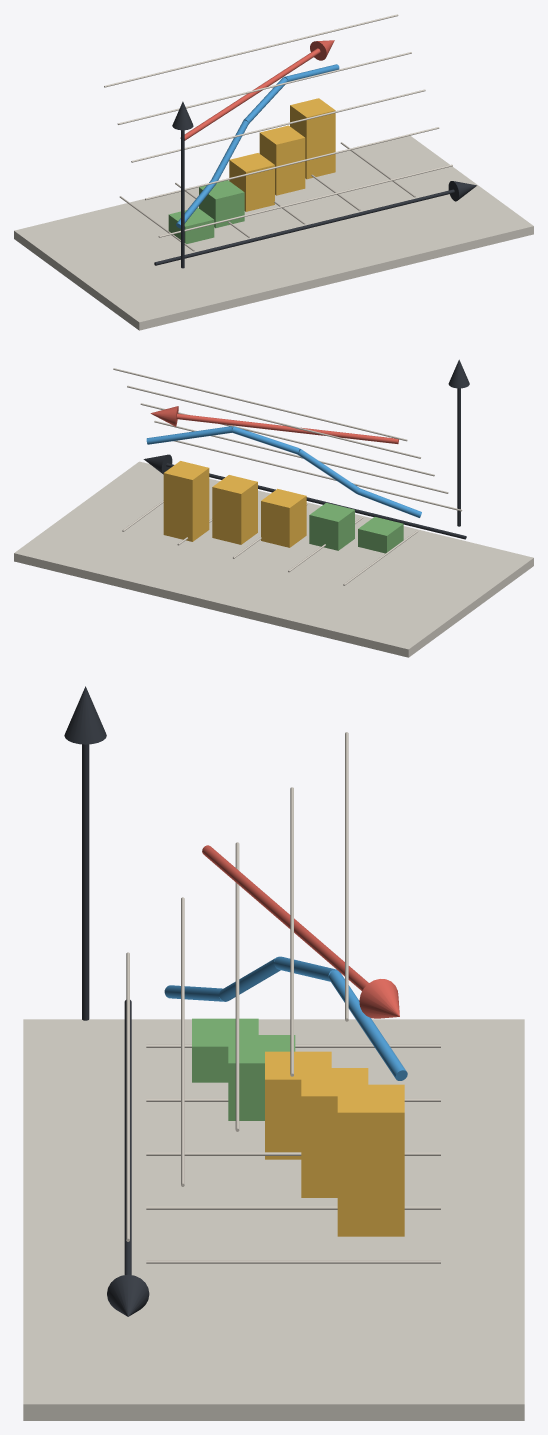
Rendered from math-advanced-math-calc-accumulation.glb.
3 views of the same model, one above another, from view 1: azimuth 30°, elevation 25°; view 2: azimuth 150°, elevation 25°; view 3: azimuth 270°, elevation 25° (orthographic). The views are drawn at different scales.
Parts seen in each view (by area): view 1: advanced-math-base, accumulating-sum-slab-5, accumulating-sum-slab-4, accumulating-sum-slab-3, accumulating-sum-slab-2, math-calc-accumulation-x-axis-shaft, accumulating-sum-slab-1, accumulation-direction-arrow-shaft, math-calc-accumulation-horizontal-grid-5, math-calc-accumulation-horizontal-grid-3, math-calc-accumulation-horizontal-grid-1, math-calc-accumulation-horizontal-grid-2 (+4 smaller); view 2: advanced-math-base, accumulating-sum-slab-5, accumulating-sum-slab-4, accumulating-sum-slab-3, accumulating-sum-slab-2, accumulating-sum-slab-1, accumulation-direction-arrow-shaft, math-calc-accumulation-x-axis-shaft, math-calc-accumulation-horizontal-grid-4, math-calc-accumulation-horizontal-grid-5, math-calc-accumulation-horizontal-grid-1, math-calc-accumulation-horizontal-grid-2 (+7 smaller); view 3: advanced-math-base, accumulating-sum-slab-5, accumulating-sum-slab-4, accumulating-sum-slab-3, accumulating-sum-slab-2, accumulating-sum-slab-1, accumulation-direction-arrow-shaft, math-calc-accumulation-y-axis-shaft, smooth-function-curve-segment-4, math-calc-accumulation-x-axis-shaft, math-calc-accumulation-y-axis-head, math-calc-accumulation-horizontal-grid-3 (+9 smaller).
Part boxes in pixels (x1,y1,x2,y2): advanced-math-base: (14,135,533,330); accumulating-sum-slab-5: (290,98,335,179); accumulating-sum-slab-4: (259,125,305,195); accumulating-sum-slab-3: (229,153,274,211); accumulating-sum-slab-2: (199,180,244,228); math-calc-accumulation-x-axis-shaft: (154,189,454,265); accumulating-sum-slab-1: (168,207,214,243); accumulation-direction-arrow-shaft: (180,48,320,140); math-calc-accumulation-horizontal-grid-5: (104,14,398,87); math-calc-accumulation-horizontal-grid-3: (131,89,425,162); math-calc-accumulation-horizontal-grid-1: (158,164,452,237); math-calc-accumulation-horizontal-grid-2: (145,127,439,200); advanced-math-base: (14,461,533,657); accumulating-sum-slab-5: (163,461,209,541); accumulating-sum-slab-4: (212,475,257,544); accumulating-sum-slab-3: (261,488,306,547); accumulating-sum-slab-2: (309,502,354,550); accumulating-sum-slab-1: (358,517,403,553); accumulation-direction-arrow-shaft: (176,413,398,444); math-calc-accumulation-x-axis-shaft: (166,463,466,539); math-calc-accumulation-horizontal-grid-4: (127,385,420,458); math-calc-accumulation-horizontal-grid-5: (113,368,407,441); math-calc-accumulation-horizontal-grid-1: (173,440,462,511); math-calc-accumulation-horizontal-grid-2: (154,420,448,493); advanced-math-base: (23,1019,524,1420); accumulating-sum-slab-5: (337,1084,404,1236); accumulating-sum-slab-4: (301,1068,368,1197); accumulating-sum-slab-3: (265,1051,331,1159); accumulating-sum-slab-2: (228,1035,295,1120); accumulating-sum-slab-1: (192,1018,258,1082); accumulation-direction-arrow-shaft: (202,845,368,990); math-calc-accumulation-y-axis-shaft: (82,744,89,1020); smooth-function-curve-segment-4: (328,970,407,1080); math-calc-accumulation-x-axis-shaft: (124,1000,131,1274); math-calc-accumulation-y-axis-head: (64,686,106,744); math-calc-accumulation-horizontal-grid-3: (235,842,239,1131).
Size of what is drawn, in the model's own units: 3 by 1.48 by 1.65.
